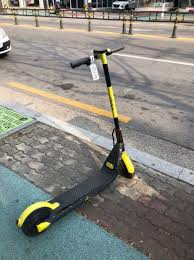kick_board: (18, 45, 137, 237)
kick_handler: (71, 45, 125, 65)
kick_neck: (100, 68, 126, 147)
kick_wheel: (18, 203, 53, 237), (116, 153, 136, 178)
